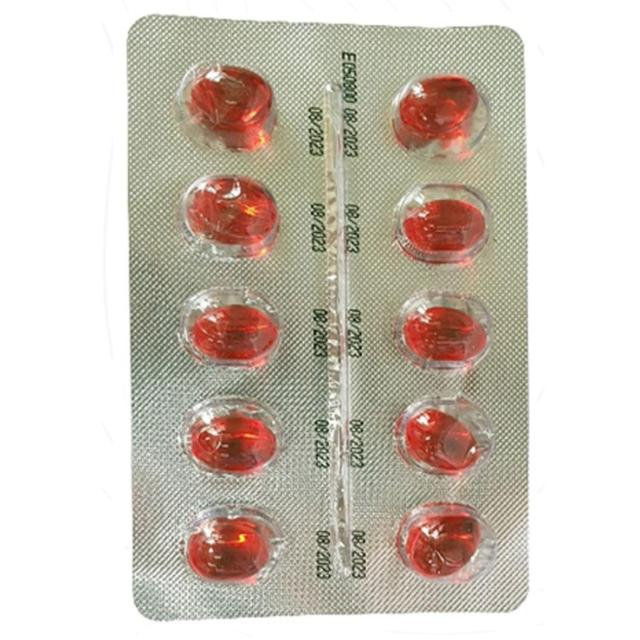blister: (110, 14, 539, 626)
